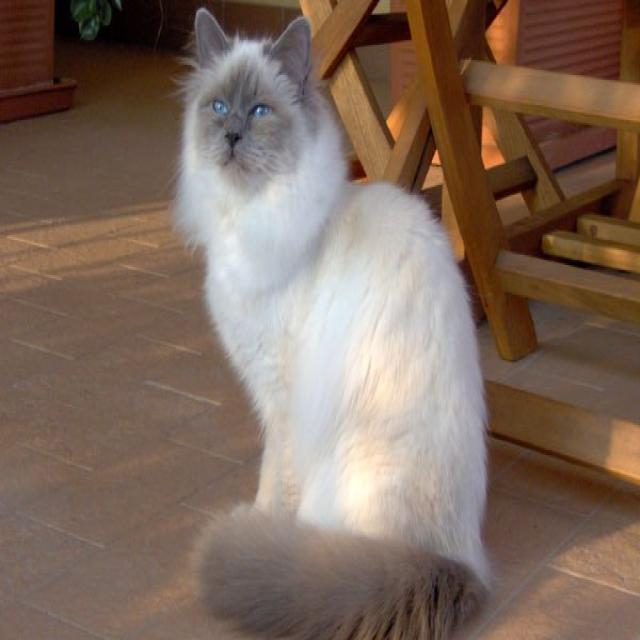Birman: (171, 0, 354, 287)
